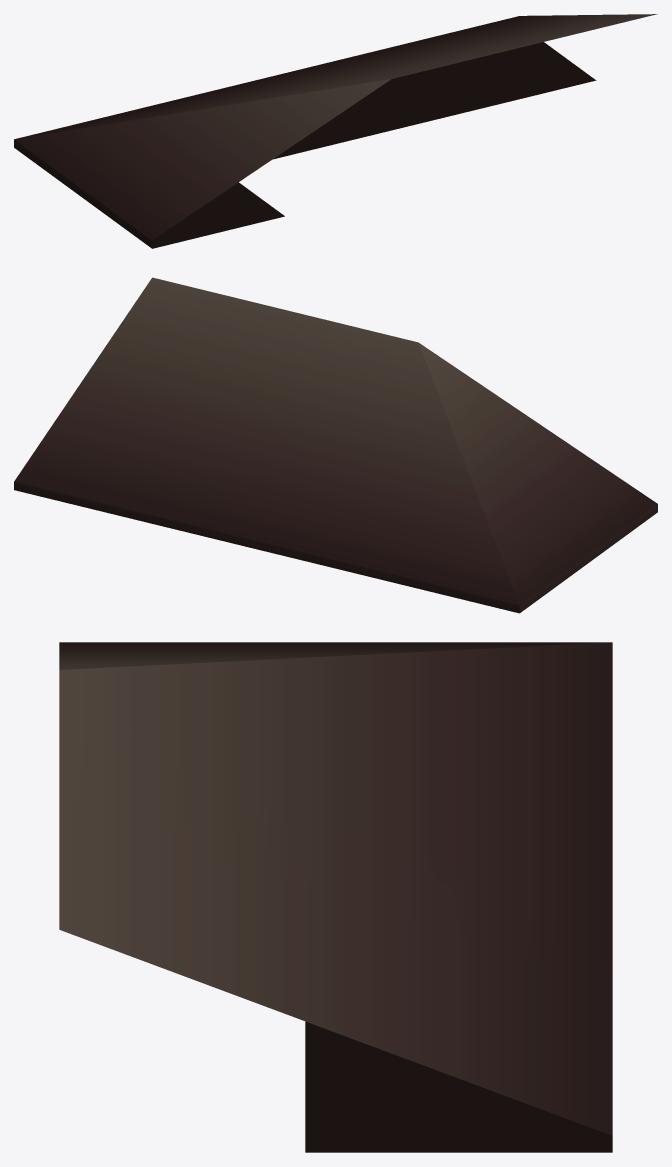
Rendered from SM_Rich_Roof_01.fbx.
3 views of the same model, one above another, from view 1: azimuth 30°, elevation 25°; view 2: azimuth 150°, elevation 25°; view 3: azimuth 270°, elevation 25° (orthographic). The views are drawn at different scales.
Parts seen in each view (by area): view 1: SM_Rich_Roof_01; view 2: SM_Rich_Roof_01; view 3: SM_Rich_Roof_01.
Boxes of the visible parts, x1,y1,x2,y2 form: SM_Rich_Roof_01: (14,14,657,248); SM_Rich_Roof_01: (14,277,657,613); SM_Rich_Roof_01: (59,642,612,1152).
Bounding box in the file's own units: 9.5 × 2 × 4.5.
